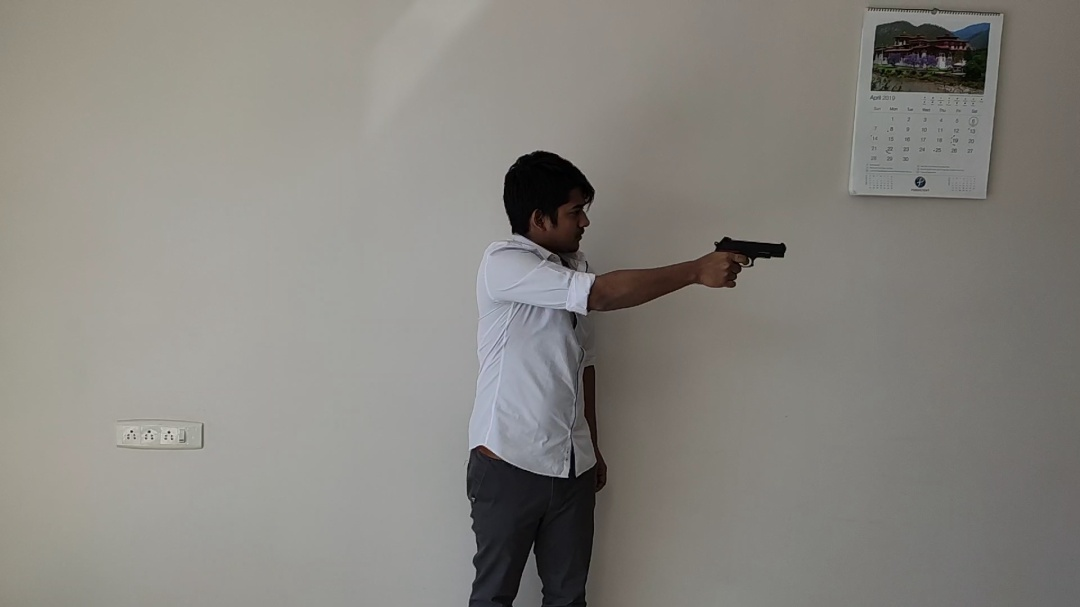gun: (713, 236, 787, 267)
